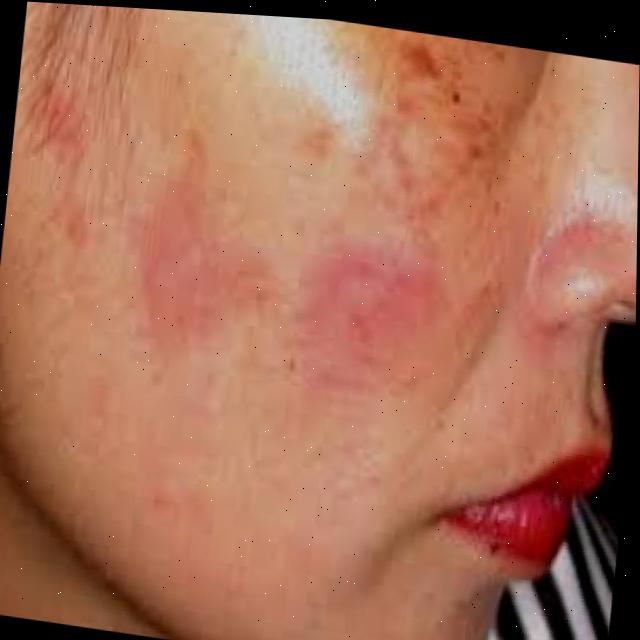Rosacea: (2, 78, 516, 419), (524, 188, 636, 296)
